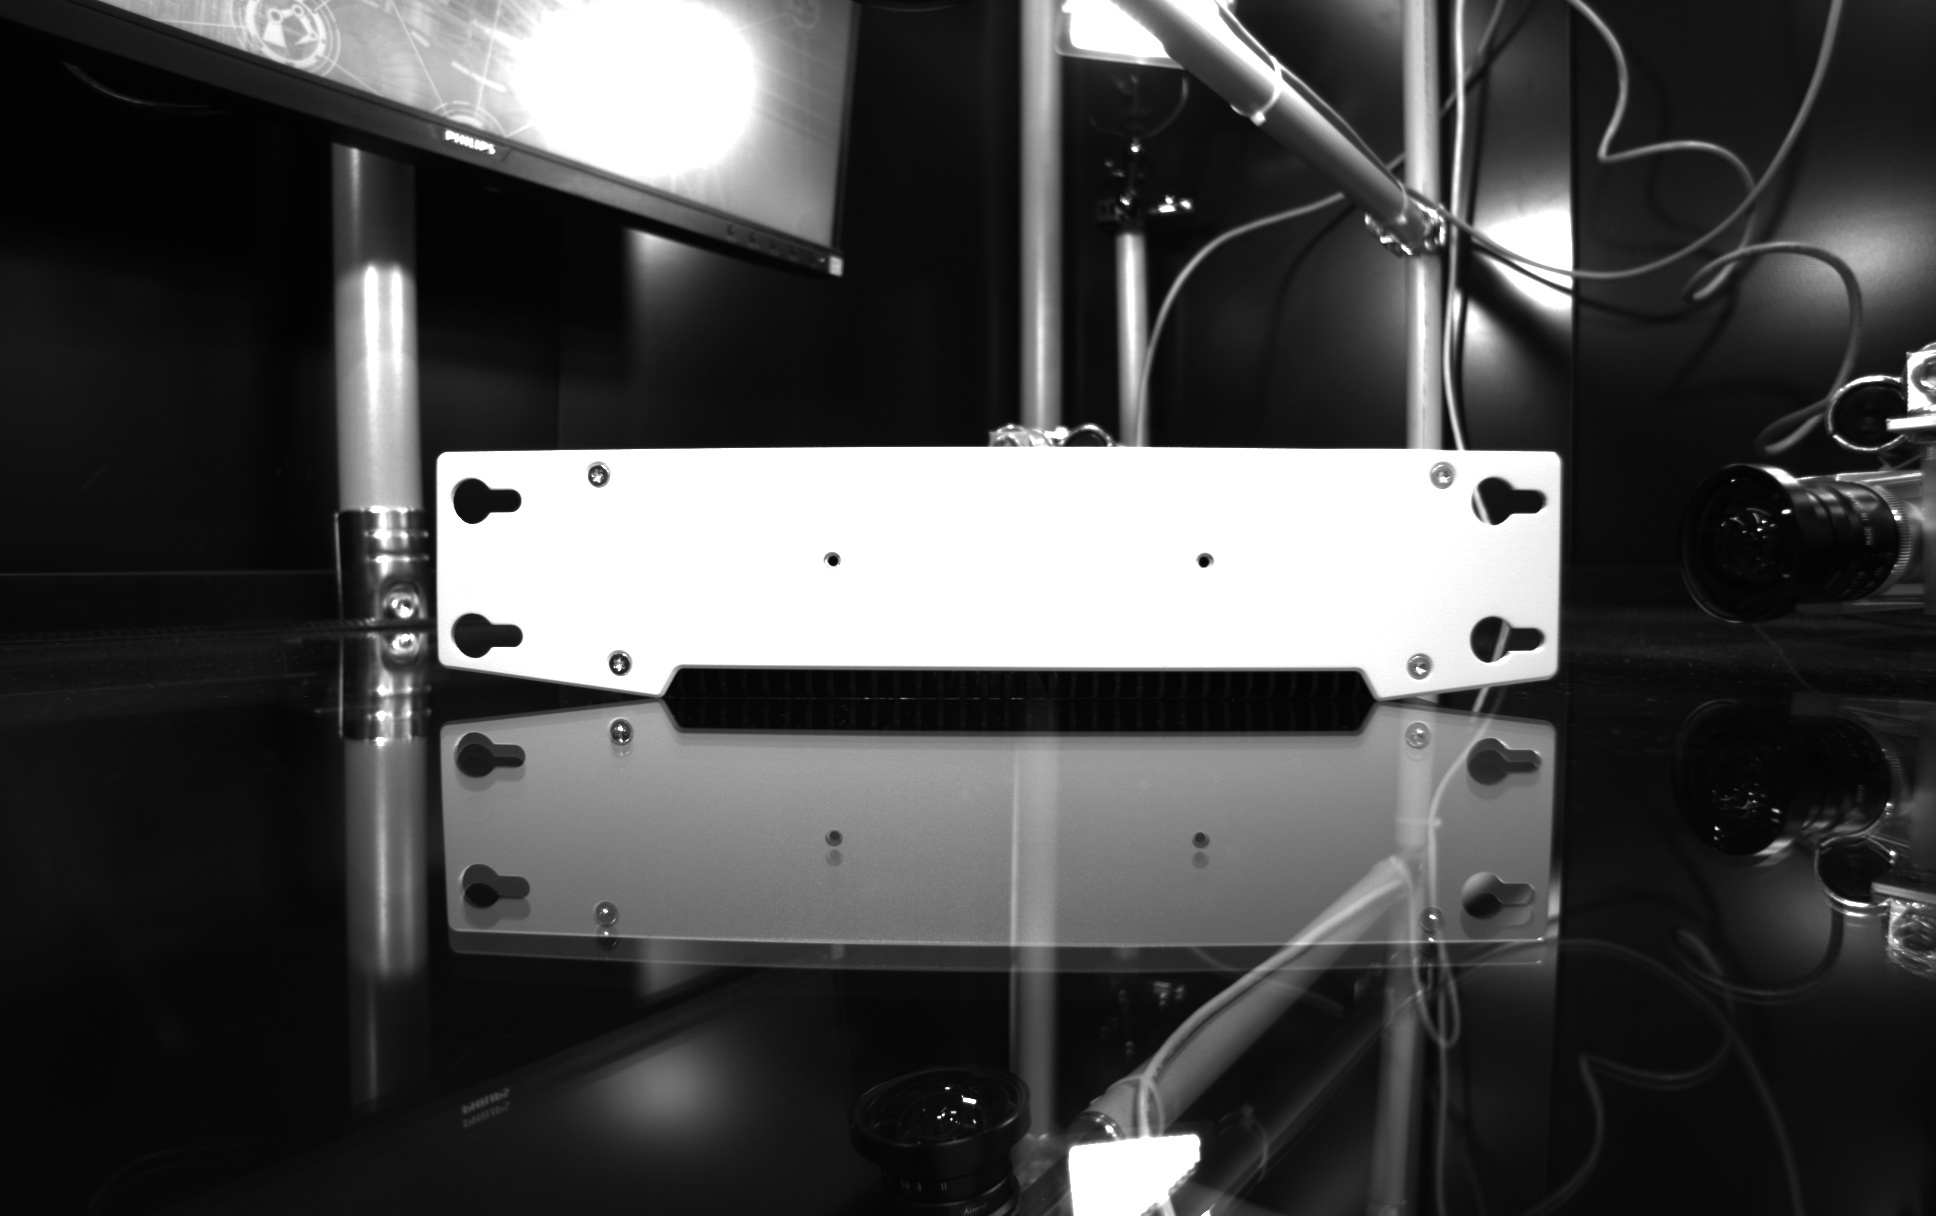CamBack: (408, 417, 1584, 702)
Schraube: (598, 642, 637, 682), (1401, 644, 1440, 684), (1422, 457, 1461, 496), (579, 457, 616, 496)
Schraube_gespiegelt: (584, 892, 629, 960), (1413, 899, 1451, 960), (601, 714, 640, 768), (1395, 719, 1434, 769)
